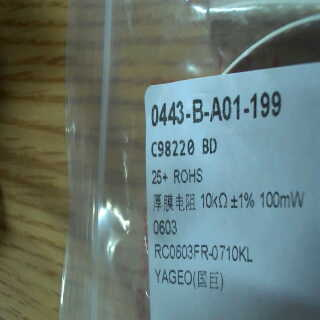10kR: (197, 191, 230, 213)
